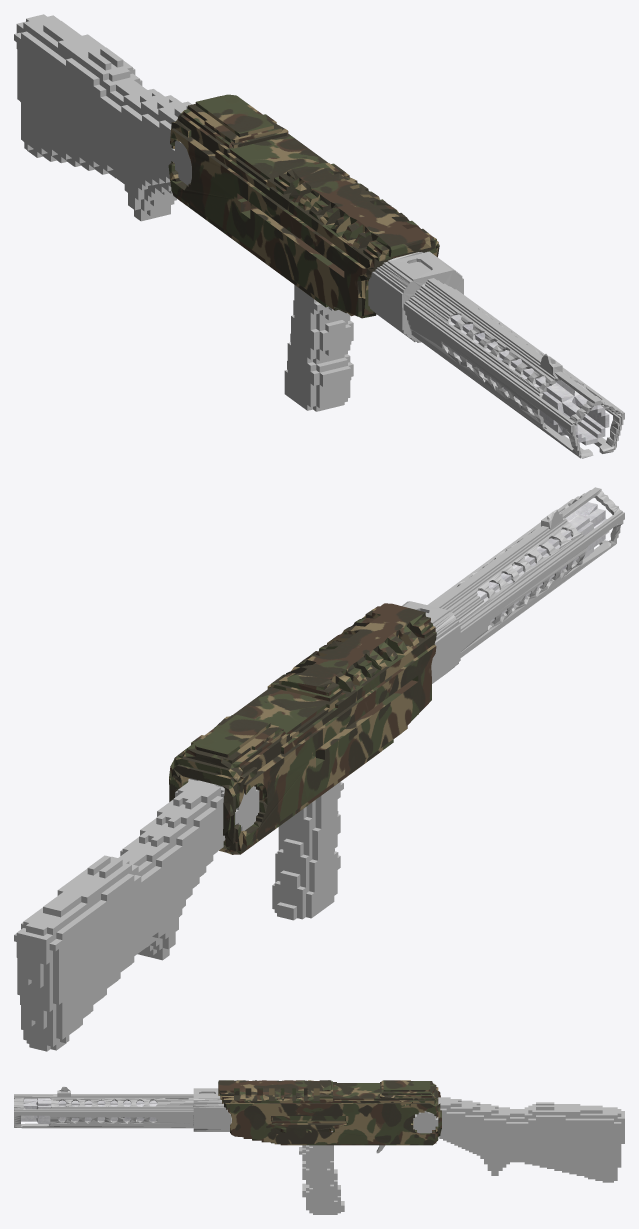
File: gun.fbx
3 views of the same model, one above another, from view 1: azimuth 30°, elevation 25°; view 2: azimuth 150°, elevation 25°; view 3: azimuth 270°, elevation 25° (orthographic). The views are drawn at different scales.
Parts seen in each view (by area): view 1: gun_body, stock, barrel_cover, handle.001, barrel; view 2: gun_body, stock, barrel_cover, handle.001, barrel; view 3: gun_body, stock, barrel_cover, handle.001, barrel.
Boxes of the visible parts, x1,y1,x2,y2 form: gun_body: (168, 94, 439, 318); stock: (14, 14, 192, 221); barrel_cover: (368, 251, 624, 458); handle.001: (284, 285, 353, 411); barrel: (442, 314, 609, 445); gun_body: (169, 603, 436, 854); stock: (14, 778, 259, 1051); barrel_cover: (402, 487, 624, 683); handle.001: (272, 782, 343, 920); barrel: (477, 502, 609, 626); gun_body: (218, 1080, 441, 1145); stock: (413, 1097, 624, 1182); barrel_cover: (14, 1086, 231, 1131); handle.001: (299, 1131, 344, 1214); barrel: (21, 1098, 157, 1123).
Bounding box in the file's own units: 31.96 × 89.16 × 401.
